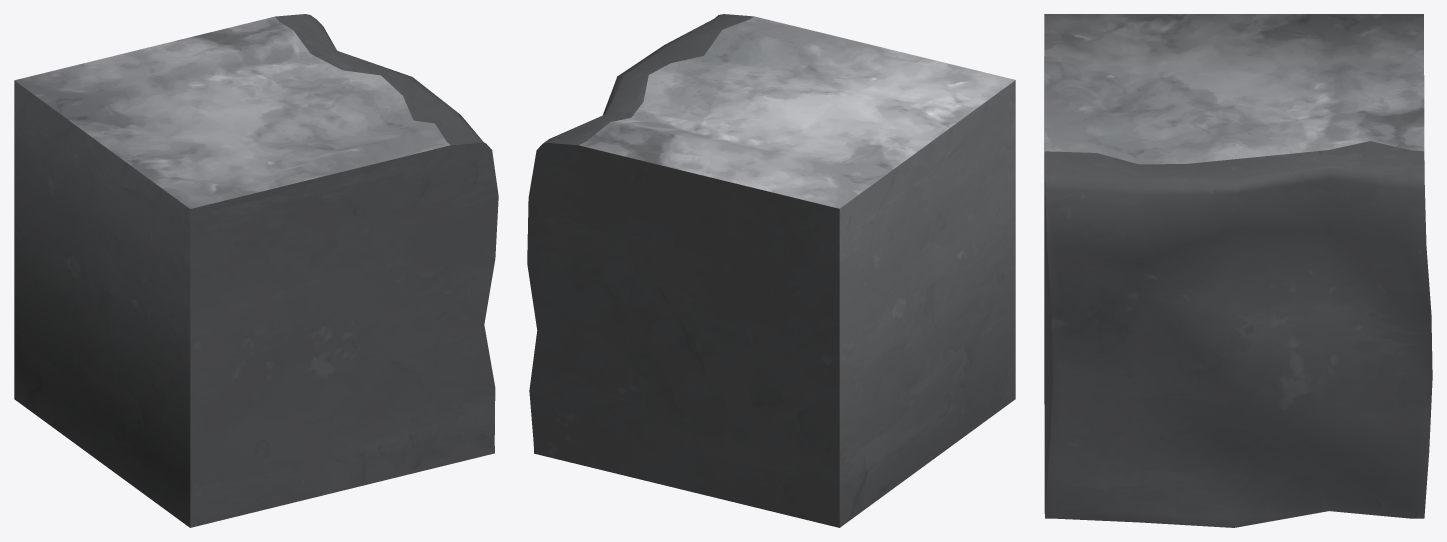
The model's file is StoneWallPath.fbx.
3 views of the same model, side by side, from view 1: azimuth 30°, elevation 25°; view 2: azimuth 150°, elevation 25°; view 3: azimuth 270°, elevation 25° (orthographic). The views are drawn at different scales.
Parts seen in each view (by area): view 1: StoneWallPath; view 2: StoneWallPath; view 3: StoneWallPath.
Boxes of the visible parts, x1=… form: StoneWallPath: x1=14, y1=14, x2=498, y2=527; StoneWallPath: x1=527, y1=14, x2=1015, y2=527; StoneWallPath: x1=1044, y1=14, x2=1432, y2=527.
Size of the model in its own units: 221 by 204 by 205.
